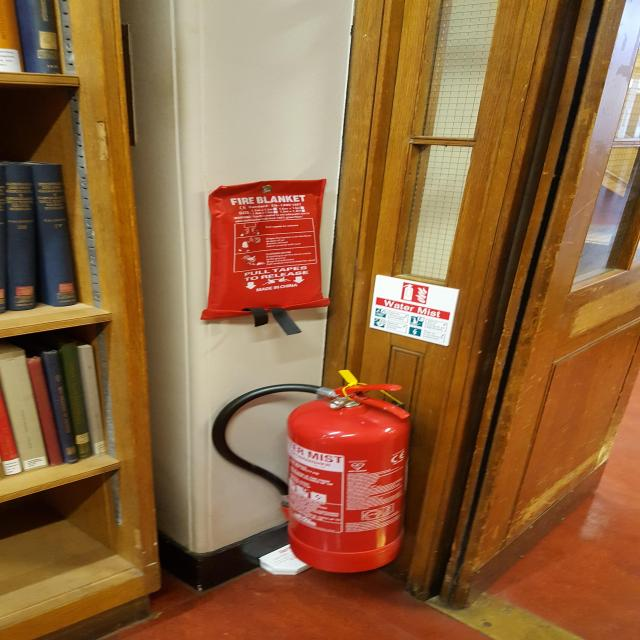fire_extinguisher: (206, 379, 420, 575)
